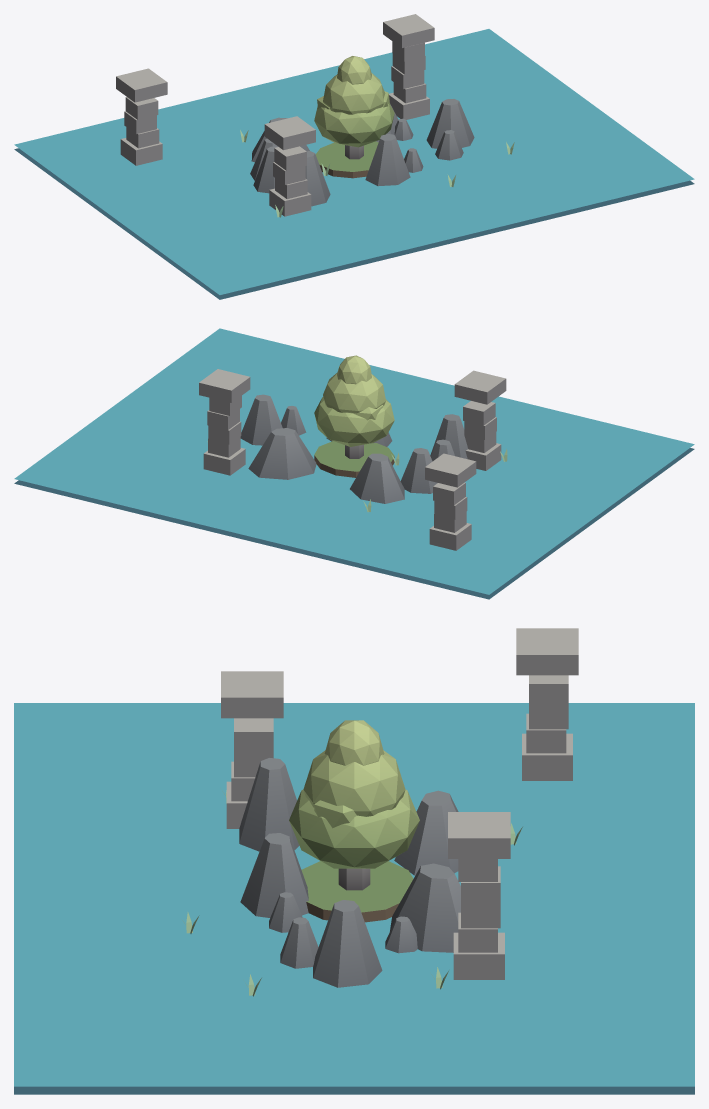
File: lago_ruinas.glb
3 views of the same model, one above another, from view 1: azimuth 30°, elevation 25°; view 2: azimuth 150°, elevation 25°; view 3: azimuth 270°, elevation 25° (orthographic). The views are drawn at different scales.
Visible parts, largest first — view 1: Water_Surface, Tree_Canopy, Ruin_Pillar_NE, Ruin_Pillar_SW, Riverbed, Ruin_Pillar_NW, Rock_Center_Front, Soil_Island, Rock_East_1, Rock_SW_NearPillar, Rock_West_2, Rock_East_2; view 2: Water_Surface, Tree_Canopy, Ruin_Pillar_NE, Riverbed, Ruin_Pillar_NW, Ruin_Pillar_SW, Rock_NE_Big, Rock_NW_Big, Soil_Island, Rock_East_1, Rock_West_1, Rock_SW_NearPillar (+1 smaller); view 3: Water_Surface, Tree_Canopy, Ruin_Pillar_NE, Ruin_Pillar_NW, Ruin_Pillar_SW, Riverbed, Rock_NE_Big, Rock_East_1, Soil_Island, Rock_SW_NearPillar, Rock_Center_Front, Rock_NW_Big (+3 smaller).
Boxes of the visible parts, <box> form: Water_Surface: <box>14,29,694,294</box>; Tree_Canopy: <box>314,56,394,147</box>; Ruin_Pillar_NE: <box>383,14,434,119</box>; Ruin_Pillar_SW: <box>264,116,315,216</box>; Riverbed: <box>14,148,694,299</box>; Ruin_Pillar_NW: <box>116,68,167,165</box>; Rock_Center_Front: <box>365,134,410,186</box>; Soil_Island: <box>315,141,378,178</box>; Rock_East_1: <box>426,99,474,148</box>; Rock_SW_NearPillar: <box>305,151,330,206</box>; Rock_West_2: <box>253,146,278,193</box>; Rock_East_2: <box>435,130,463,160</box>; Water_Surface: <box>14,328,694,594</box>; Tree_Canopy: <box>314,355,394,446</box>; Ruin_Pillar_NE: <box>199,369,250,475</box>; Riverbed: <box>14,448,694,599</box>; Ruin_Pillar_NW: <box>425,453,476,550</box>; Ruin_Pillar_SW: <box>454,370,506,470</box>; Rock_NE_Big: <box>248,428,316,479</box>; Rock_NW_Big: <box>350,453,404,503</box>; Soil_Island: <box>314,441,394,477</box>; Rock_East_1: <box>240,394,282,445</box>; Rock_West_1: <box>400,448,437,493</box>; Rock_SW_NearPillar: <box>430,414,467,458</box>; Water_Surface: <box>14,703,694,1086</box>; Tree_Canopy: <box>289,720,419,868</box>; Ruin_Pillar_NE: <box>448,812,510,979</box>; Ruin_Pillar_NW: <box>516,628,578,780</box>; Ruin_Pillar_SW: <box>221,671,283,828</box>; Riverbed: <box>14,1086,694,1094</box>; Rock_NE_Big: <box>390,863,460,952</box>; Rock_East_1: <box>313,900,382,987</box>; Soil_Island: <box>301,861,413,922</box>; Rock_SW_NearPillar: <box>239,758,299,851</box>; Rock_Center_Front: <box>240,833,308,917</box>; Rock_NW_Big: <box>394,790,458,875</box>.
Size of the model in its own units: 16 by 3.54 by 12.
